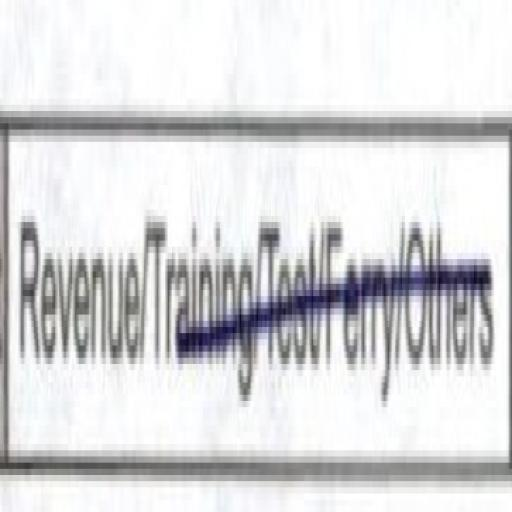check: (1, 18, 142, 512)
